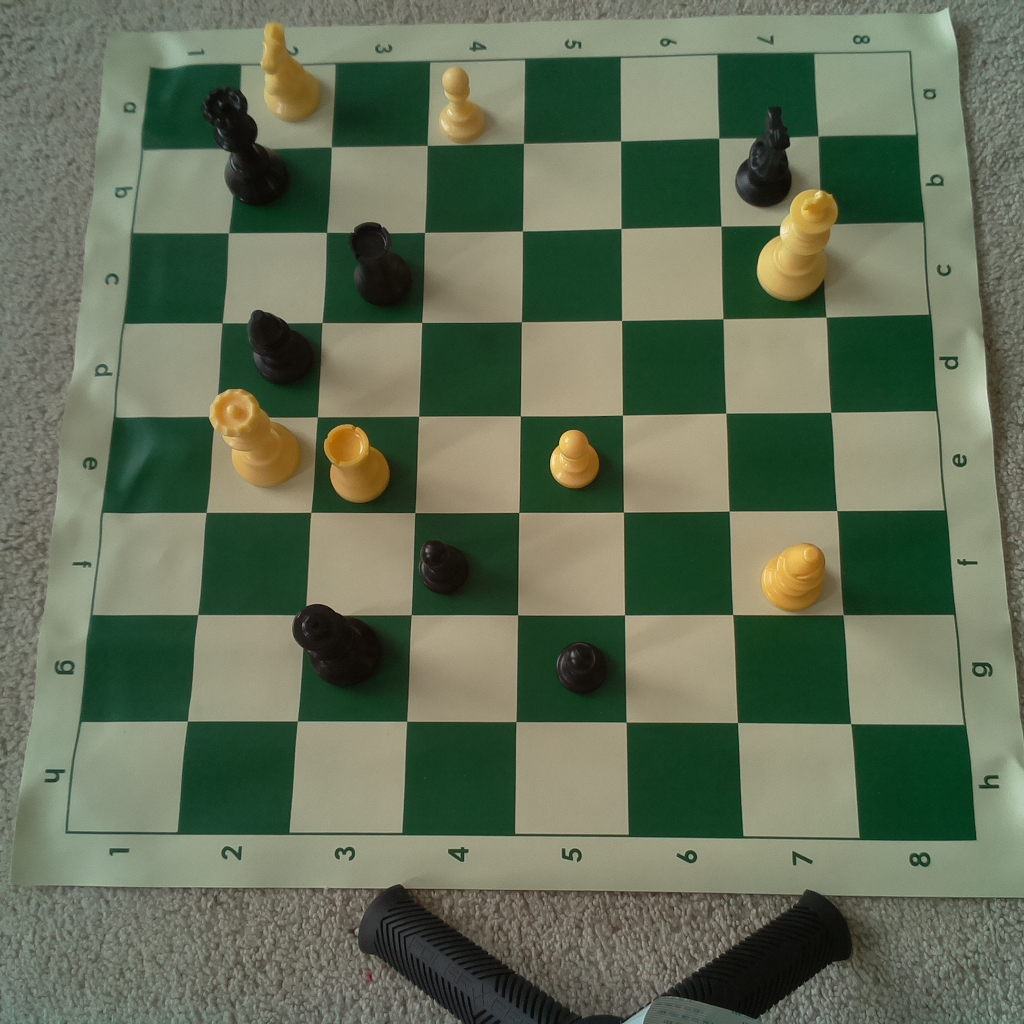black_bishop: (238, 304, 318, 386)
black_king: (285, 602, 385, 690)
black_knight: (731, 99, 801, 208)
black_pawn: (551, 635, 615, 697), (415, 534, 473, 596)
black_queen: (201, 84, 290, 212)
black_rook: (340, 215, 420, 310)
file_a: (141, 51, 918, 152)
file_b: (127, 136, 924, 234)
file_c: (123, 222, 927, 327)
file_d: (115, 313, 937, 418)
file_e: (102, 409, 945, 510)
file_f: (94, 510, 957, 617)
file_g: (81, 617, 966, 723)
file_h: (67, 719, 975, 840)
outline: (66, 52, 976, 839)
rank_1: (68, 64, 242, 832)
rank_2: (177, 62, 336, 836)
rank_3: (286, 62, 432, 834)
rank_4: (403, 58, 524, 834)
rank_5: (512, 58, 632, 835)
rank_6: (621, 56, 744, 838)
rank_7: (719, 54, 862, 836)
rank_8: (812, 52, 976, 838)
white_bishop: (759, 538, 829, 612)
white_king: (747, 184, 842, 308)
white_knight: (254, 18, 325, 123)
white_pawn: (538, 422, 606, 490), (436, 61, 488, 144)
white_queen: (203, 383, 303, 491)
white_rook: (319, 421, 396, 506)
